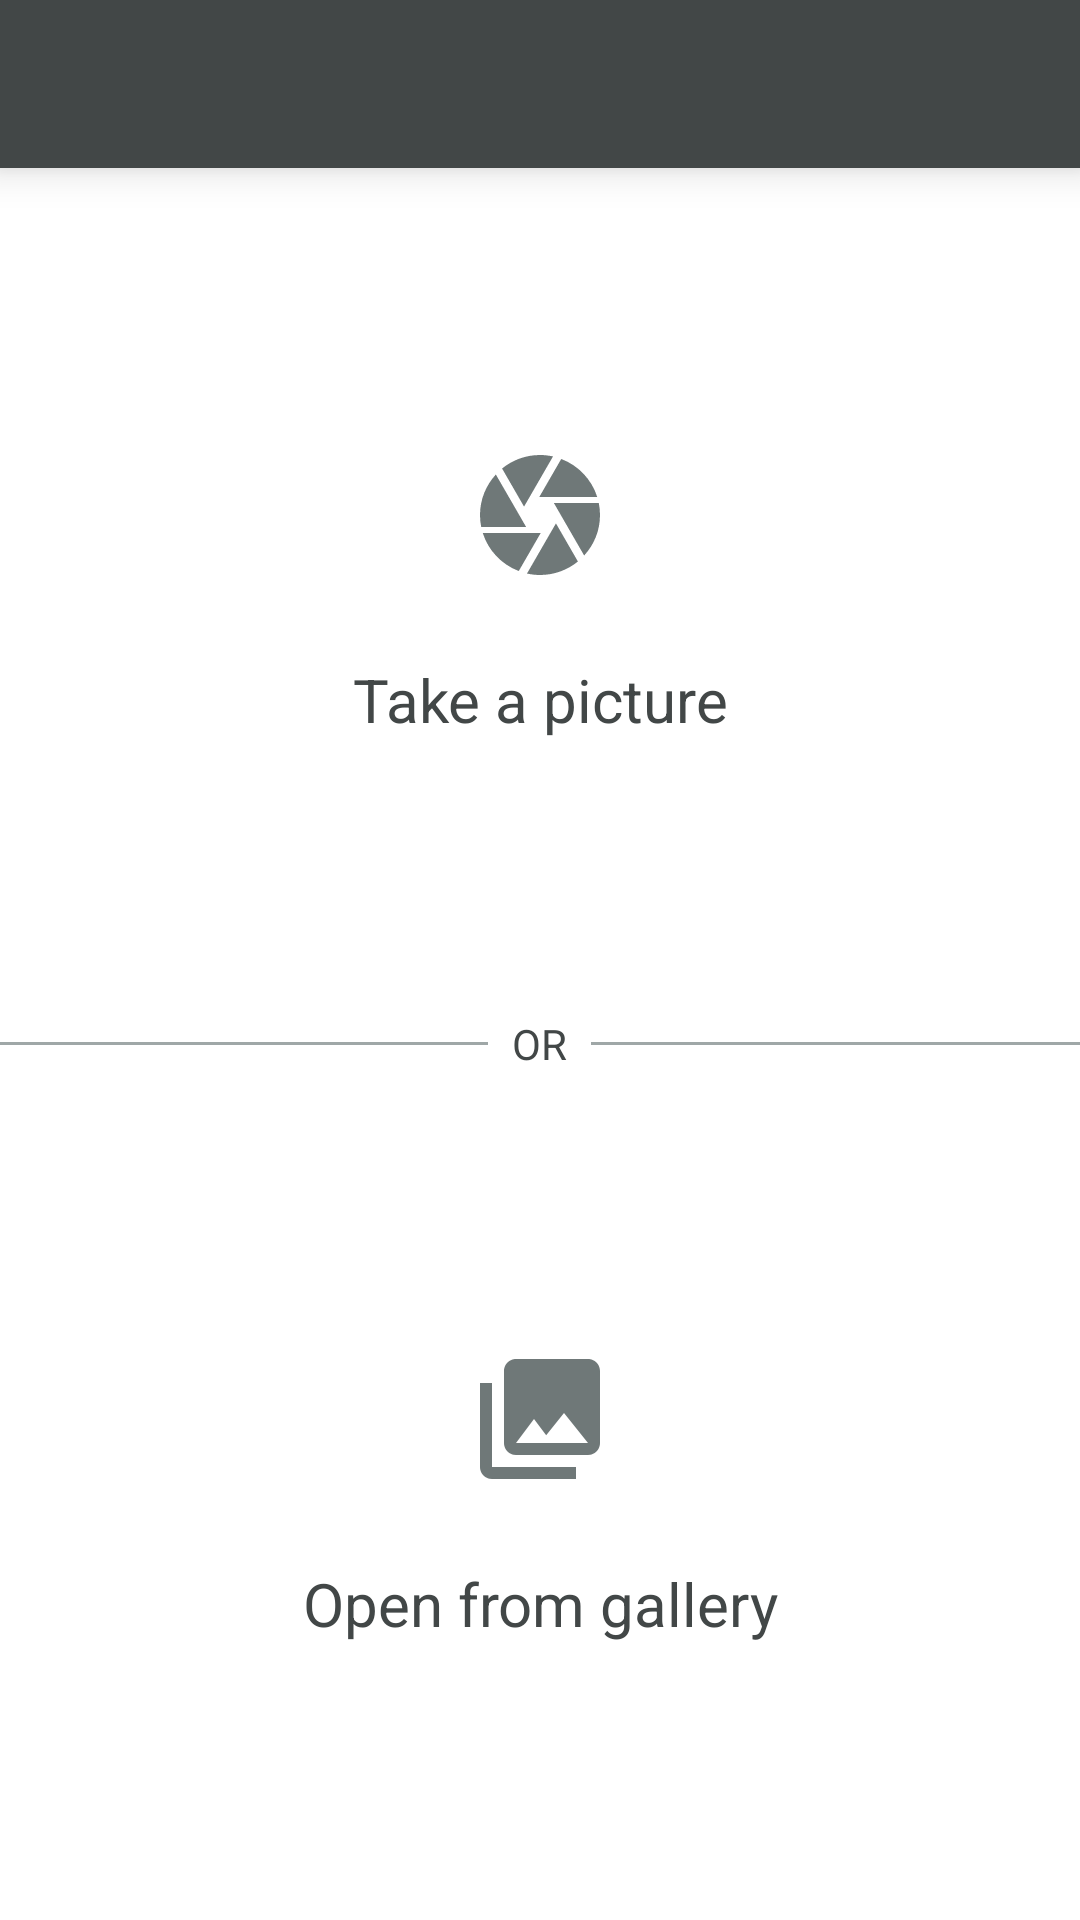

Icon bounding boxes for this 1080x1920 phone screenshot, format (x1, y1, x2, y2):
camera: (480, 455, 600, 575)
